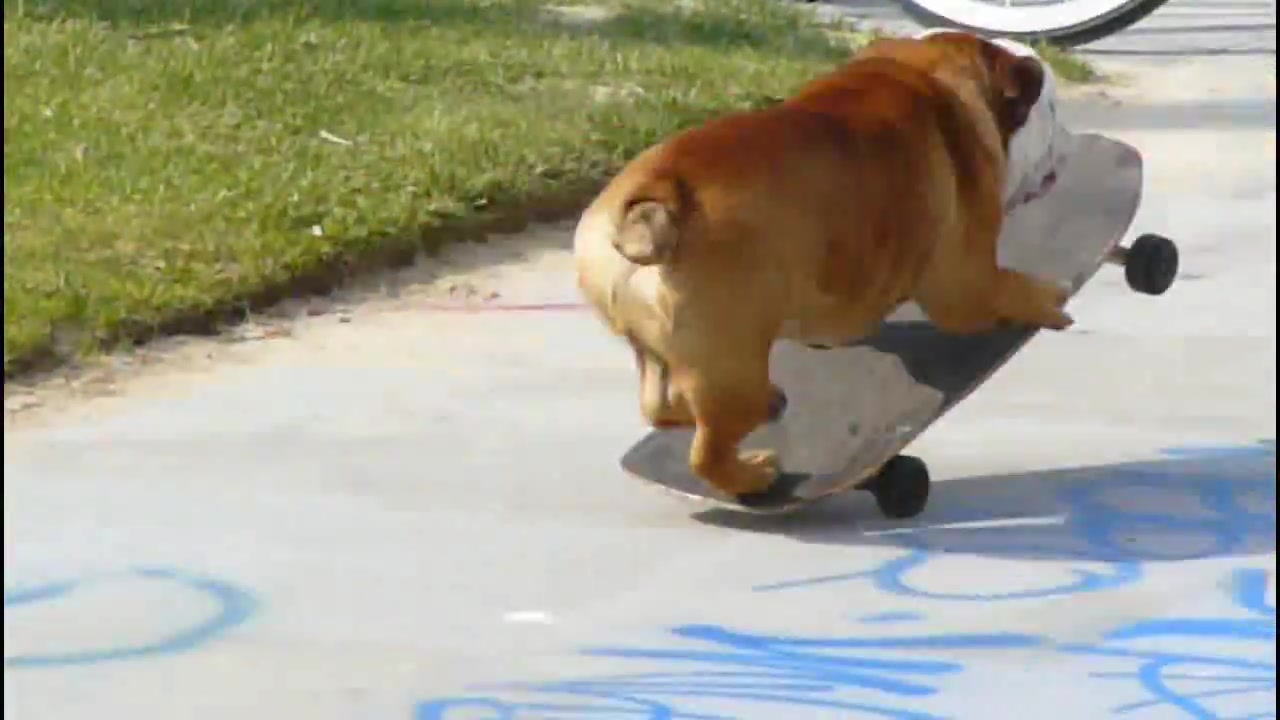dog: (570, 34, 1078, 507)
